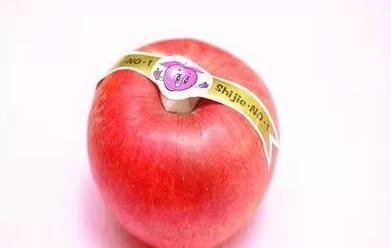apple: (85, 37, 282, 247)
